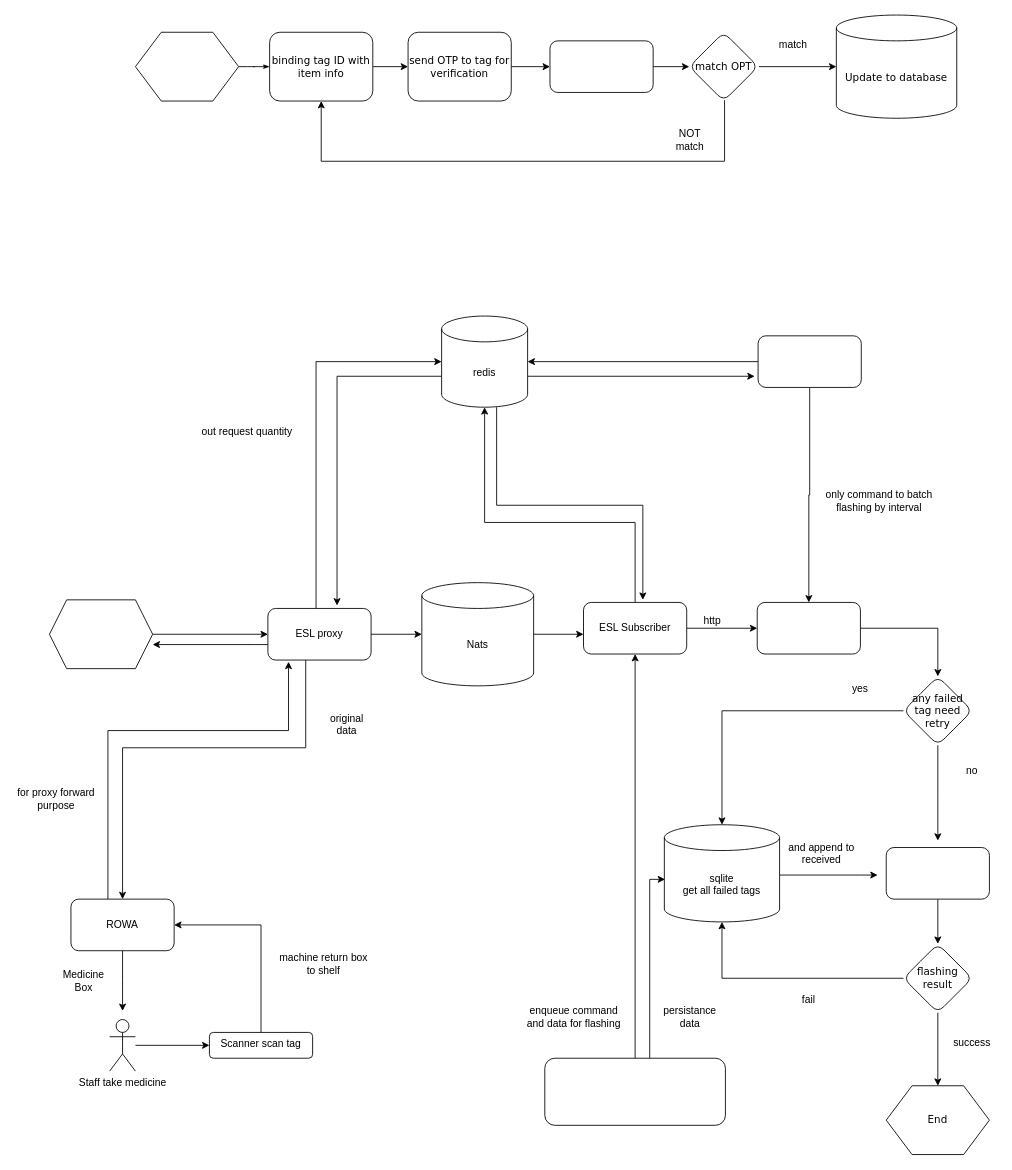
The diagram is 1012 pixels wide and 1170 high, and some of its shapes have lost their labels. The shapes that lost their labels are listed below. From the top down, each one's box as (x1, y1, x2, y2) in pixels, then its label:
(135, 31, 239, 101): initial
(549, 40, 653, 92): input OTP
(757, 335, 861, 387): Batch Flashing
(49, 599, 153, 669): HIS medicine usage data
(756, 602, 860, 654): ESL API
(885, 847, 989, 899): Flashing Device / Antena
(544, 1057, 725, 1125): ESL webstie / providing UI for user
